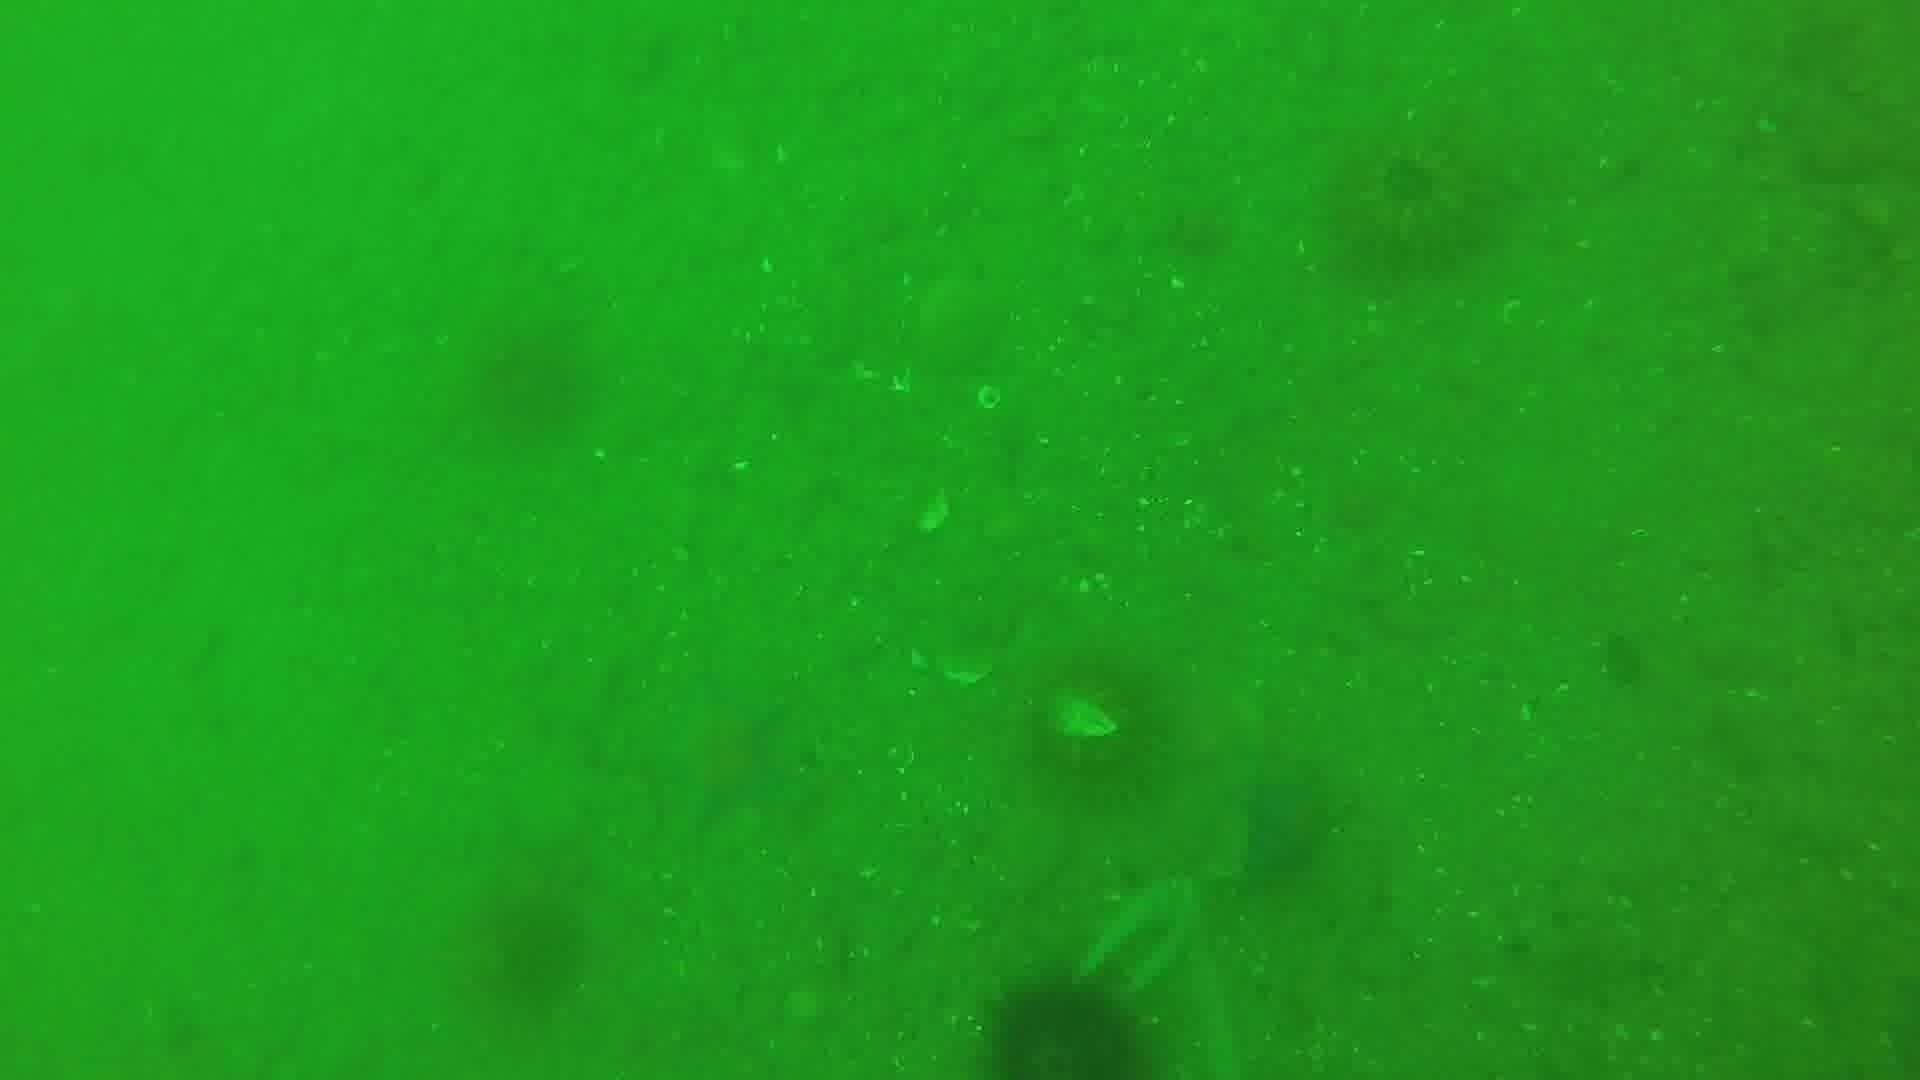echinus: (1316, 127, 1505, 284), (1021, 650, 1176, 806), (977, 971, 1149, 1077), (467, 326, 595, 448), (476, 887, 593, 1013), (1592, 626, 1654, 692)
starfish: (628, 667, 803, 841), (1217, 769, 1342, 905)
